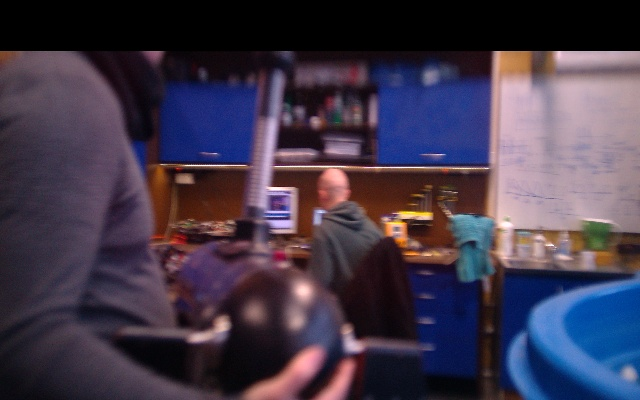black: (242, 107, 284, 235)
